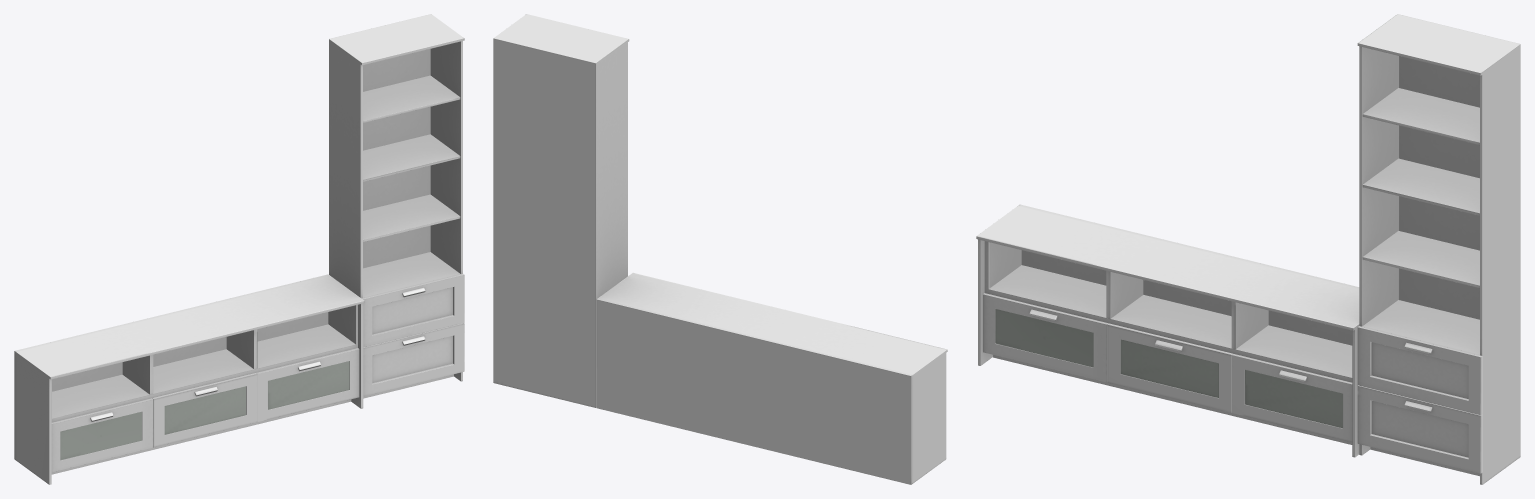
Rendered from Tv Shelf_003_White.gltf.
The picture shows the model from 3 angles, left to right: view 1: azimuth 30°, elevation 25°; view 2: azimuth 150°, elevation 25°; view 3: azimuth 330°, elevation 25°; orthographic projection. The views are drawn at different scales.
Visible parts, largest first — view 1: Tv Shelf_003; view 2: Tv Shelf_003; view 3: Tv Shelf_003.
Part boxes in pixels (x1,y1,x2,y2): Tv Shelf_003: (14, 14, 464, 484); Tv Shelf_003: (493, 14, 947, 484); Tv Shelf_003: (976, 14, 1520, 484).
Bounding box in the file's own units: 2.42 × 1.91 × 0.3653.
1 material, 1 textured.
